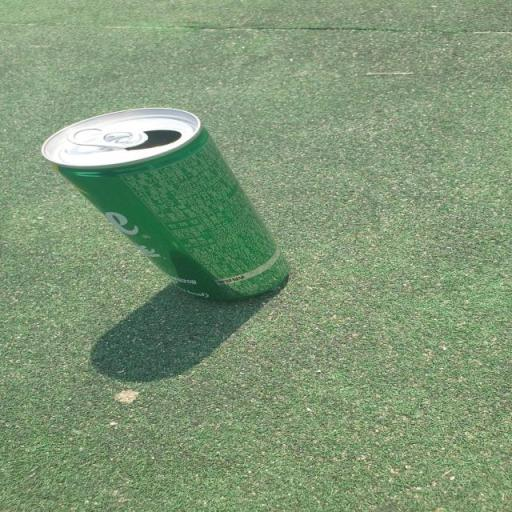metal: (19, 100, 389, 350)
